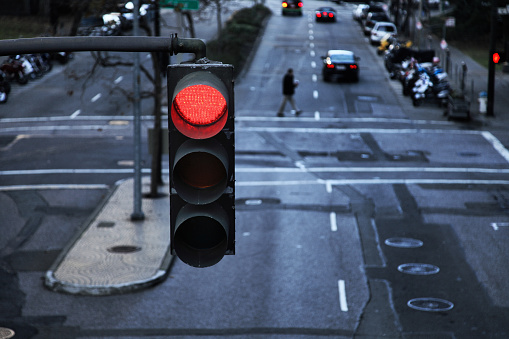trafficlight: (162, 53, 241, 269)
